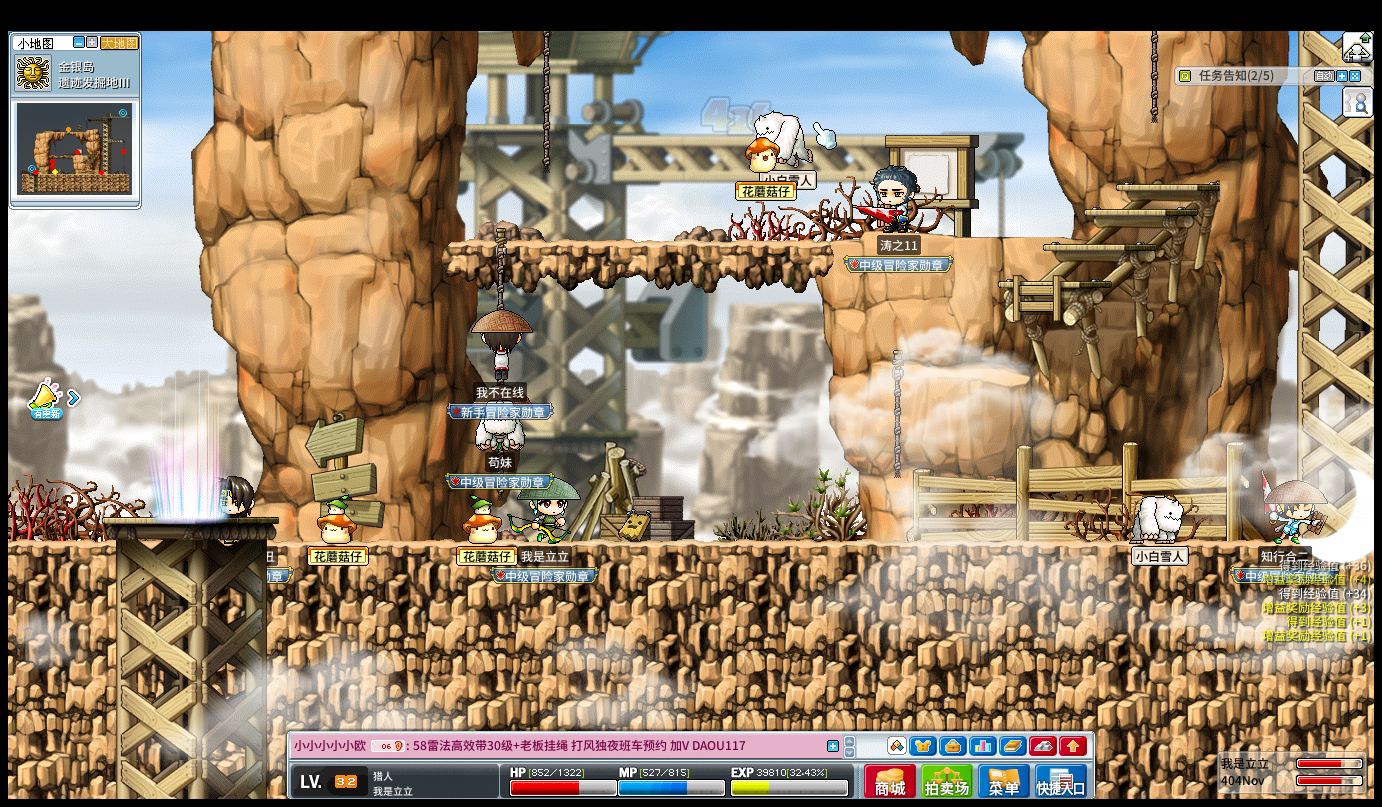floor: (267, 540, 1303, 549), (444, 237, 831, 250), (907, 365, 1031, 386), (8, 540, 116, 550), (102, 517, 279, 523), (1043, 244, 1156, 252), (956, 235, 1080, 242), (1084, 209, 1198, 216), (998, 281, 1112, 288), (1116, 184, 1220, 191)
rope: (893, 350, 902, 477), (543, 31, 550, 173), (495, 228, 505, 309), (1151, 31, 1158, 122)
